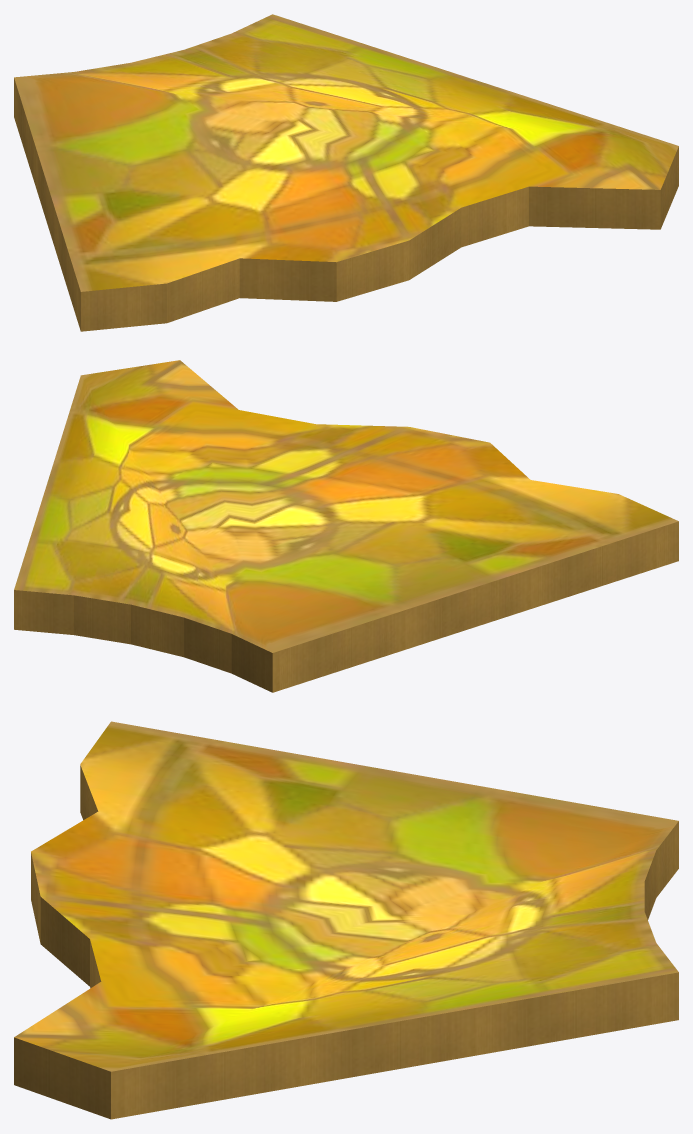
File: lb_chunk_2_0.glb
The picture shows the model from 3 angles, top to bottom: view 1: azimuth 30°, elevation 25°; view 2: azimuth 150°, elevation 25°; view 3: azimuth 270°, elevation 25°; orthographic projection. The views are drawn at different scales.
Visible parts, largest first — view 1: lb_chunk_2_0; view 2: lb_chunk_2_0; view 3: lb_chunk_2_0.
Part boxes in pixels (box(x1,y1,x2,y2)): lb_chunk_2_0: box(14, 14, 678, 331); lb_chunk_2_0: box(14, 360, 678, 692); lb_chunk_2_0: box(14, 721, 678, 1119).
Bounding box in the file's own units: 5.66 × 0.36 × 4.54.
2 materials, 2 textured.
